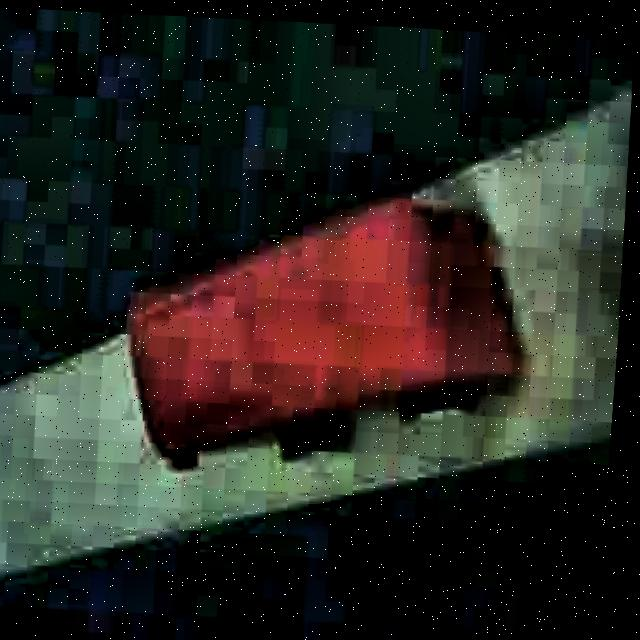bus: (111, 175, 543, 493)
